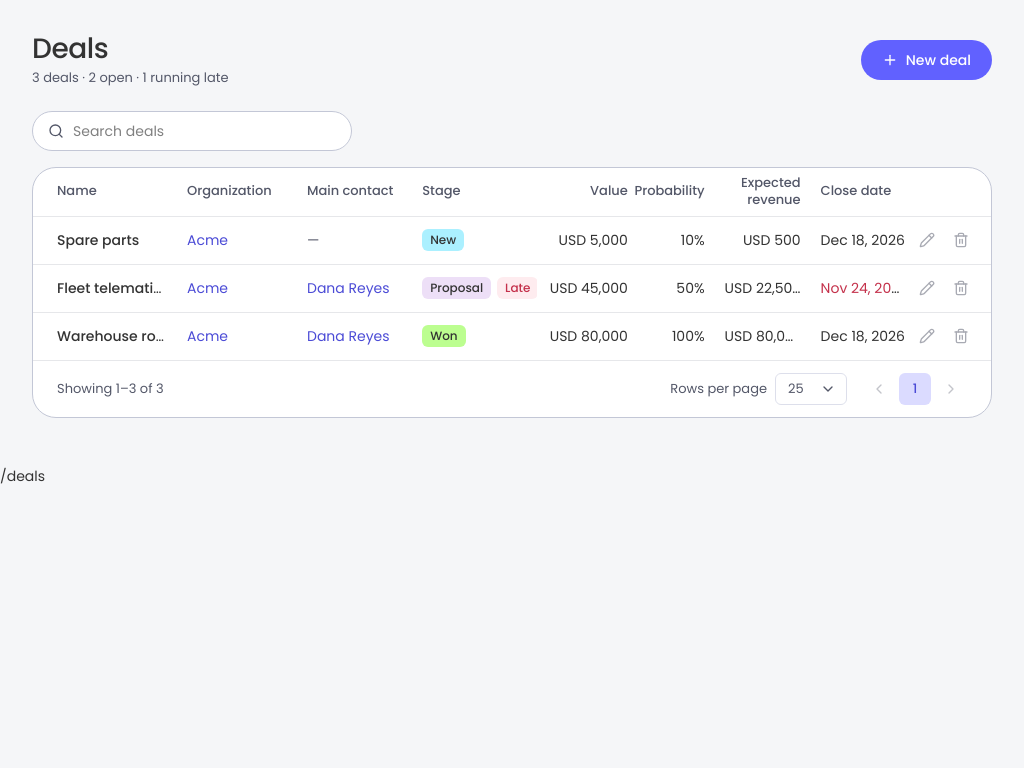
the deals table › says what deleting a deal removes
Step 1. Click the button named "Delete Fleet telematics" → coordinates (961, 288), box [945,272,977,304]
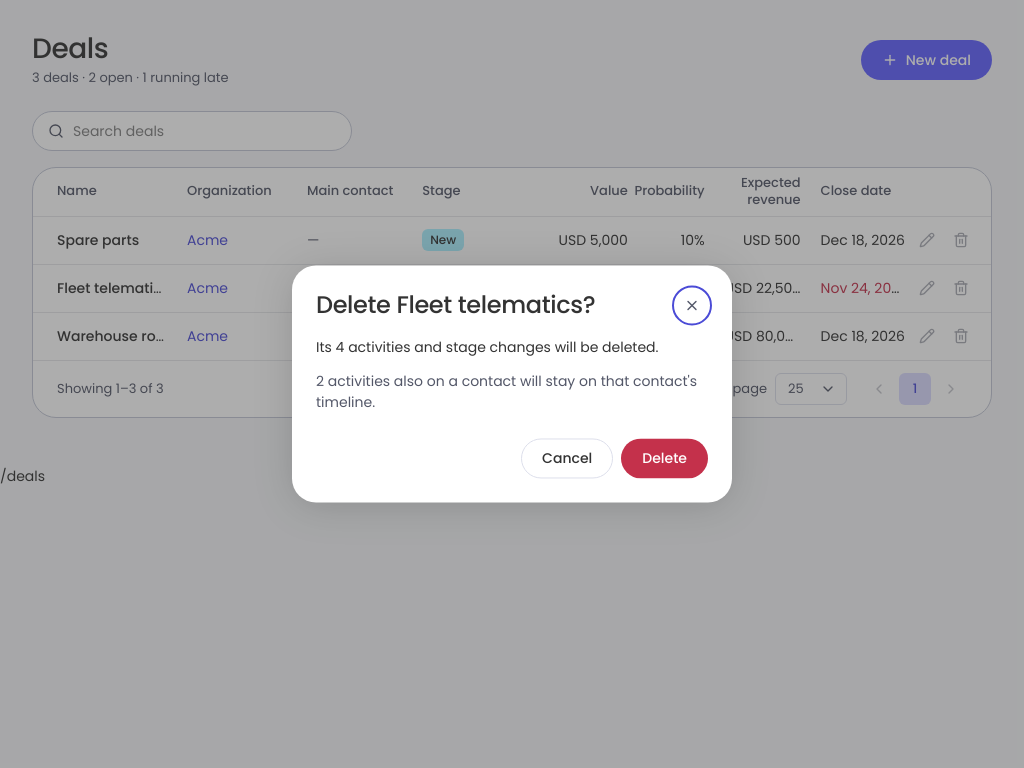
Result: the text "Its 4 activities and stage changes will be deleted." is shown at [316,338,708,359]
Result: the text "2 activities also on a contact will stay on that contact's timeline." is shown at [316,371,708,415]
